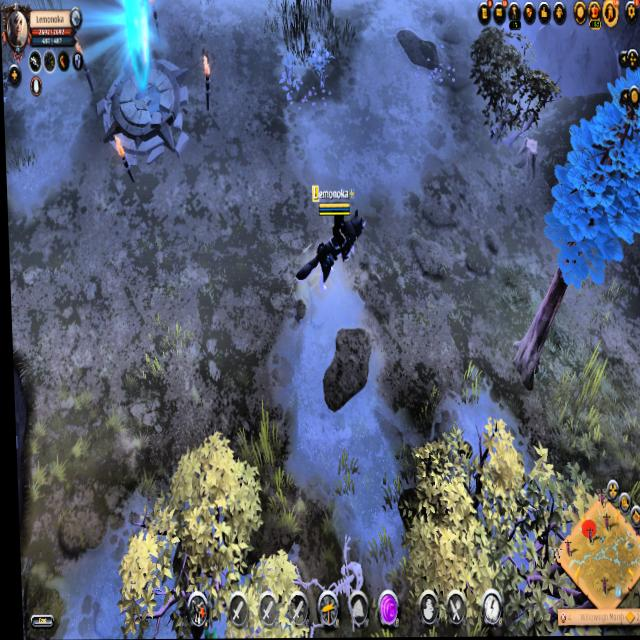fiber tier 4: (308, 42, 334, 90)
wood tier 4: (538, 109, 640, 295)
